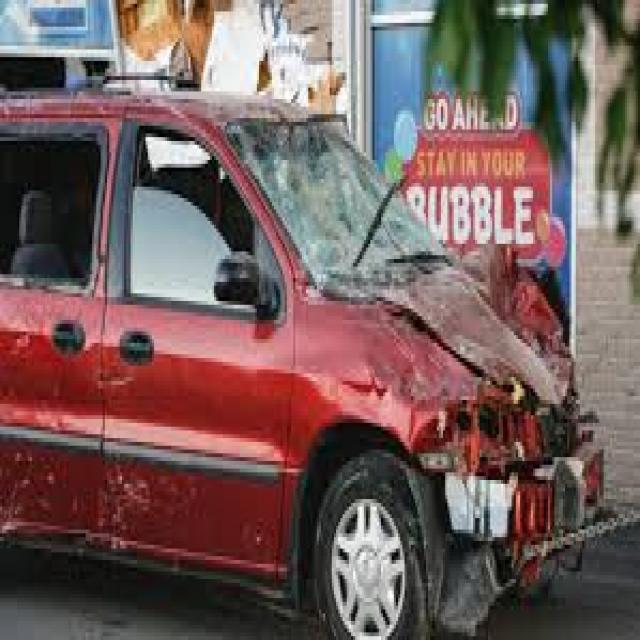minor: (238, 125, 418, 263)
severe: (348, 251, 614, 582)
